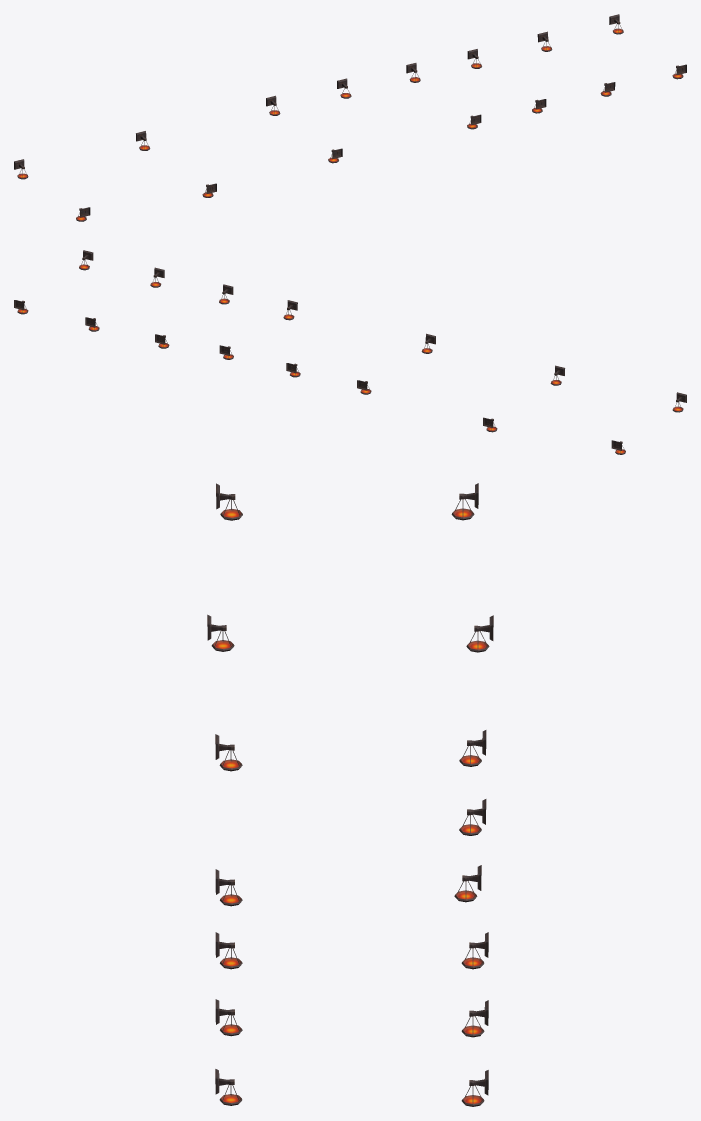
Rendered from wujian12.FBX.
3 views of the same model, one above another, from view 1: azimuth 30°, elevation 25°; view 2: azimuth 150°, elevation 25°; view 3: azimuth 270°, elevation 25° (orthographic). The views are drawn at different scales.
Visible parts, largest first — view 1: wujian12; view 2: wujian12; view 3: wujian12.
Part boxes in pixels (x1,y1,x2,y2): wujian12: (14, 14, 686, 221); wujian12: (14, 250, 686, 454); wujian12: (207, 483, 493, 1106).
Size of the model in its own units: 6854 by 208 by 1403.
1 material, 1 textured.
